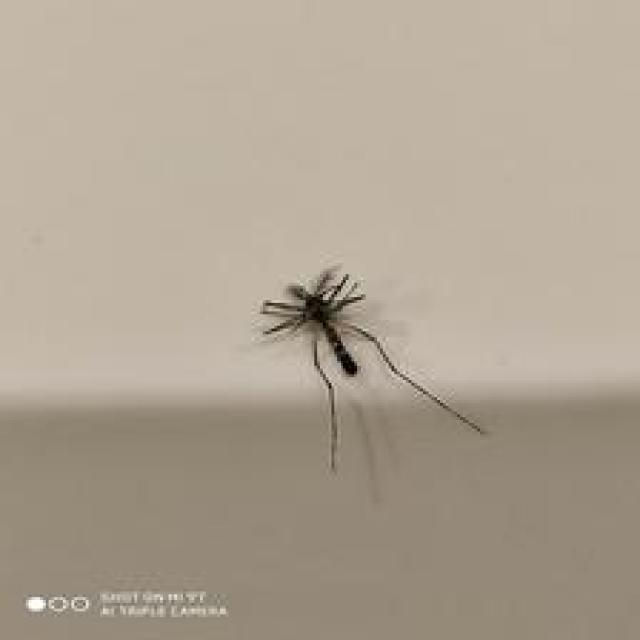Aedes albopictus: (256, 264, 487, 473)
